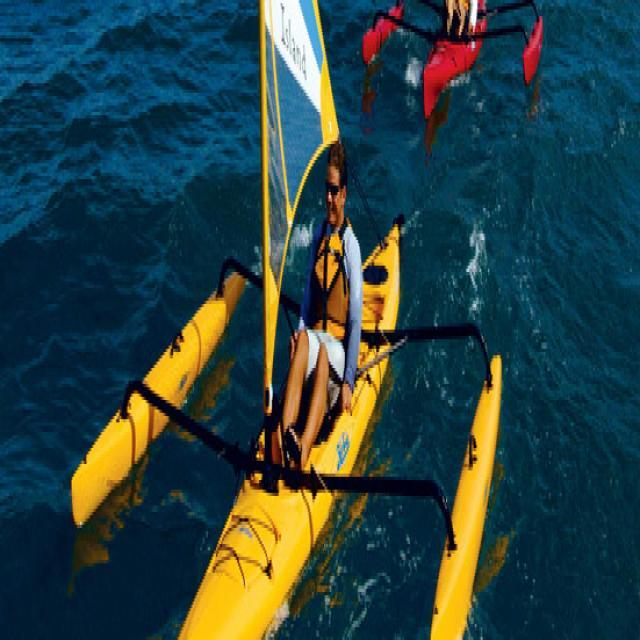Ship: (72, 1, 513, 640)
